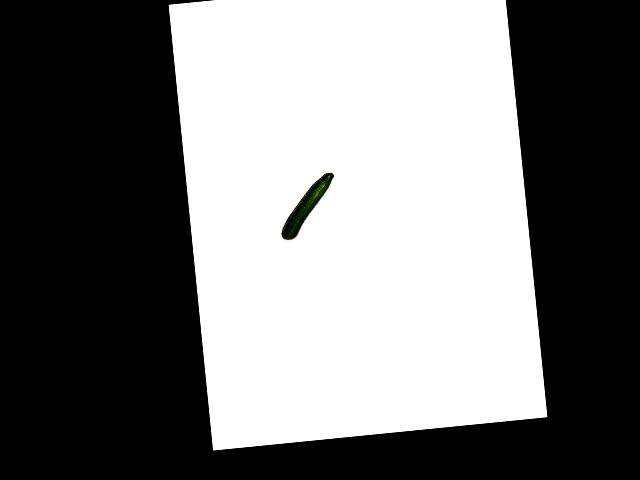cucumber: (276, 172, 339, 240)
